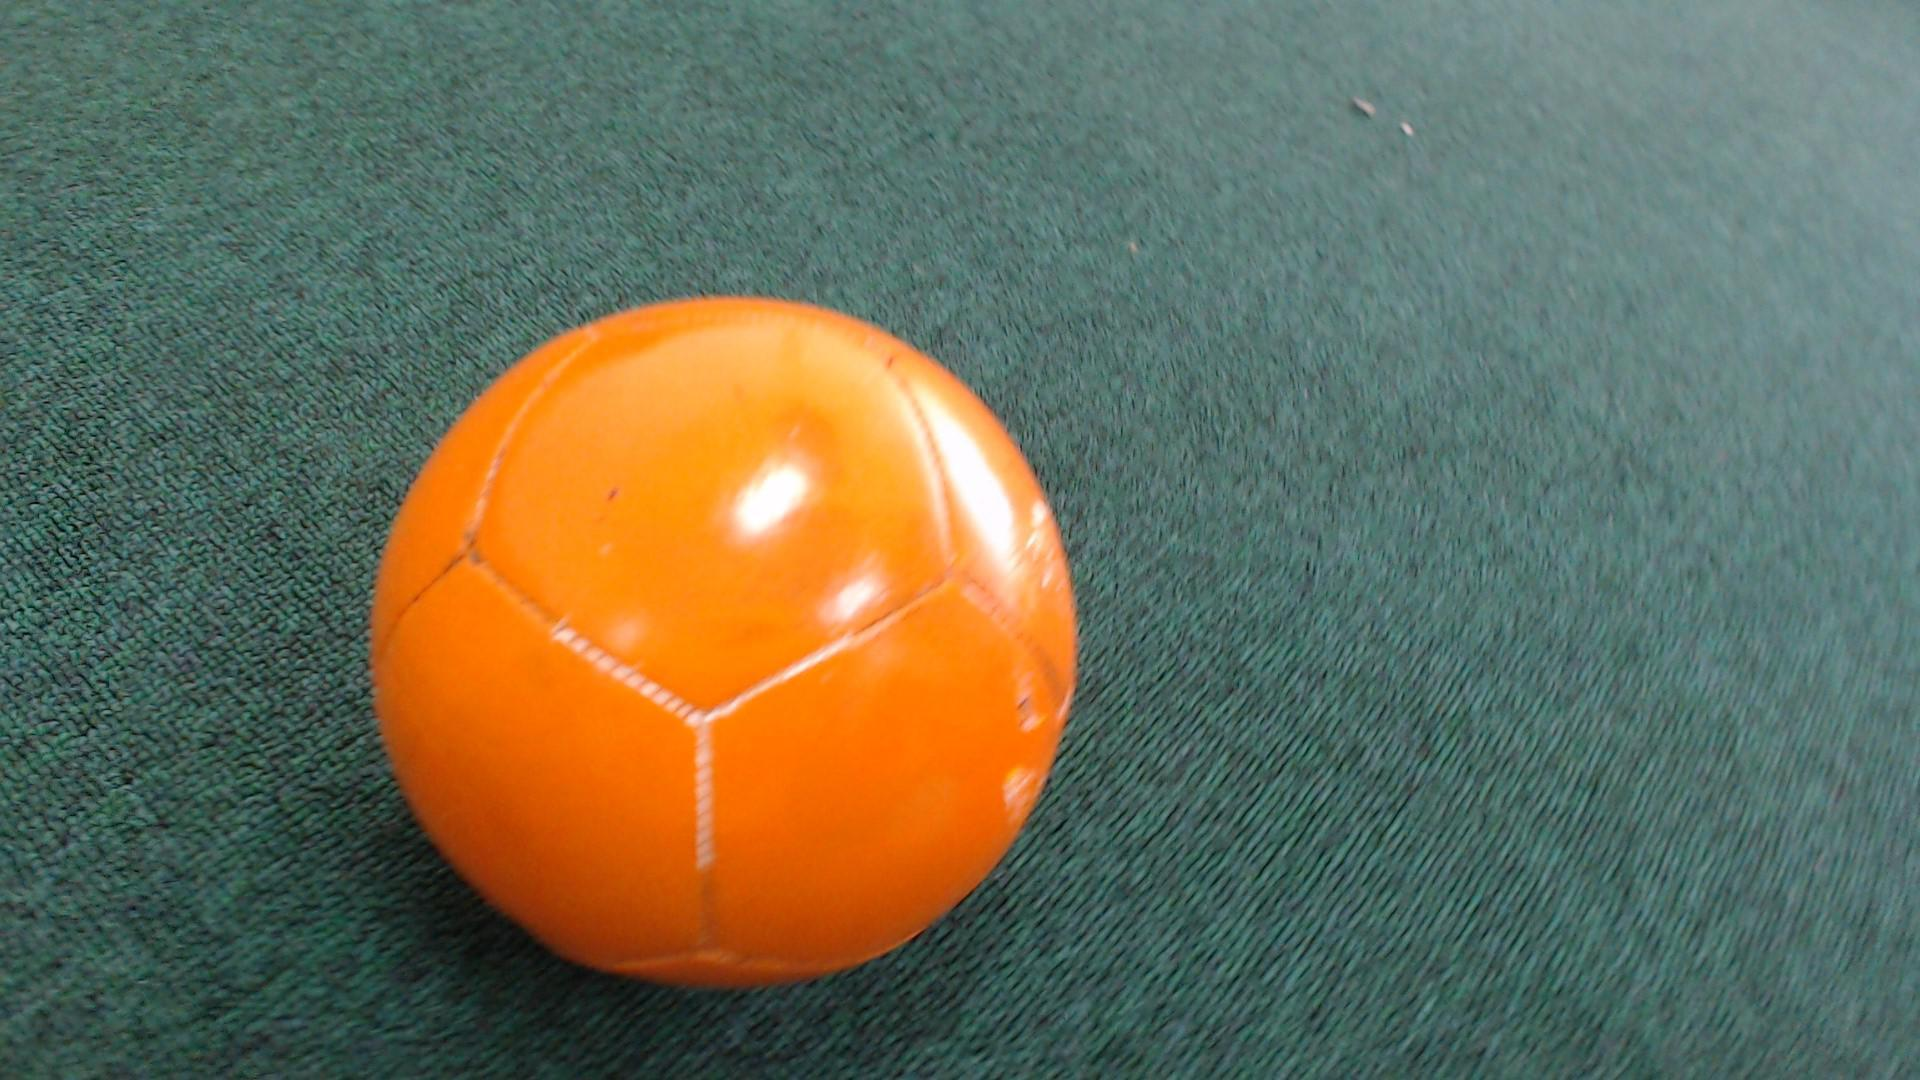bola: (316, 269, 1134, 1026)
